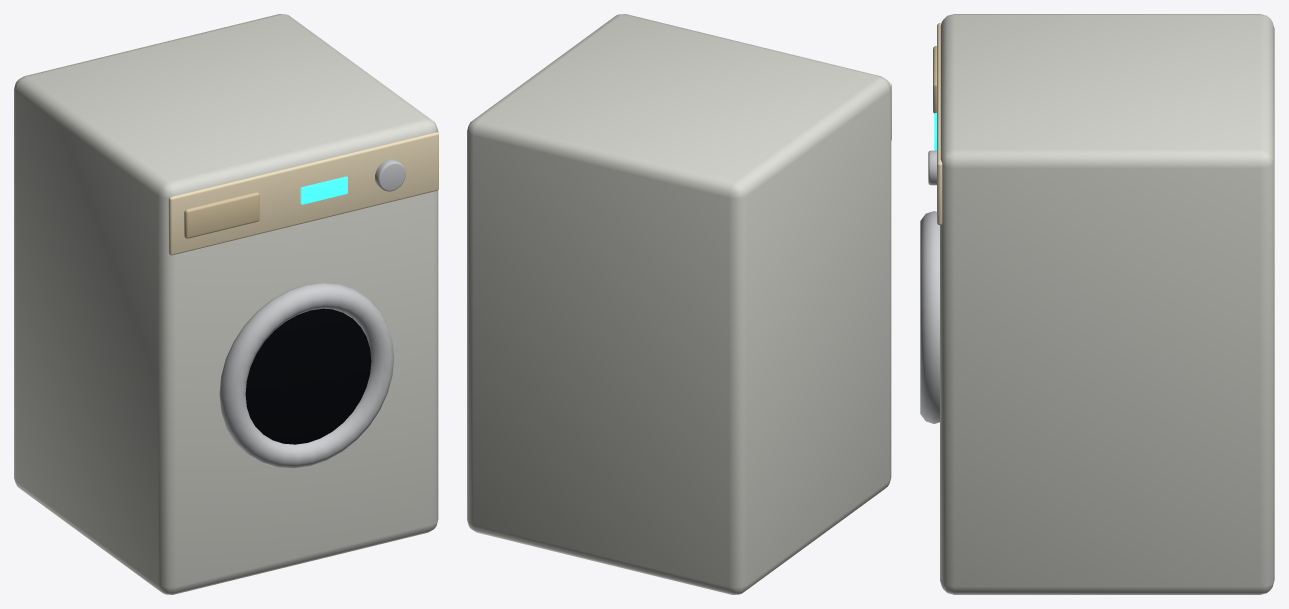
The model's file is washing_machine.glb.
3 renders of one model, left to right at view 1: azimuth 30°, elevation 25°; view 2: azimuth 150°, elevation 25°; view 3: azimuth 270°, elevation 25°, orthographic. The views are drawn at different scales.
Visible parts, largest first — view 1: washing_machine; view 2: washing_machine; view 3: washing_machine.
Boxes of the visible parts, x1=… form: washing_machine: x1=14, y1=14, x2=438, y2=594; washing_machine: x1=467, y1=14, x2=891, y2=594; washing_machine: x1=920, y1=14, x2=1274, y2=594.
Bounding box in the file's own units: 0.6 × 0.85 × 0.6138.
